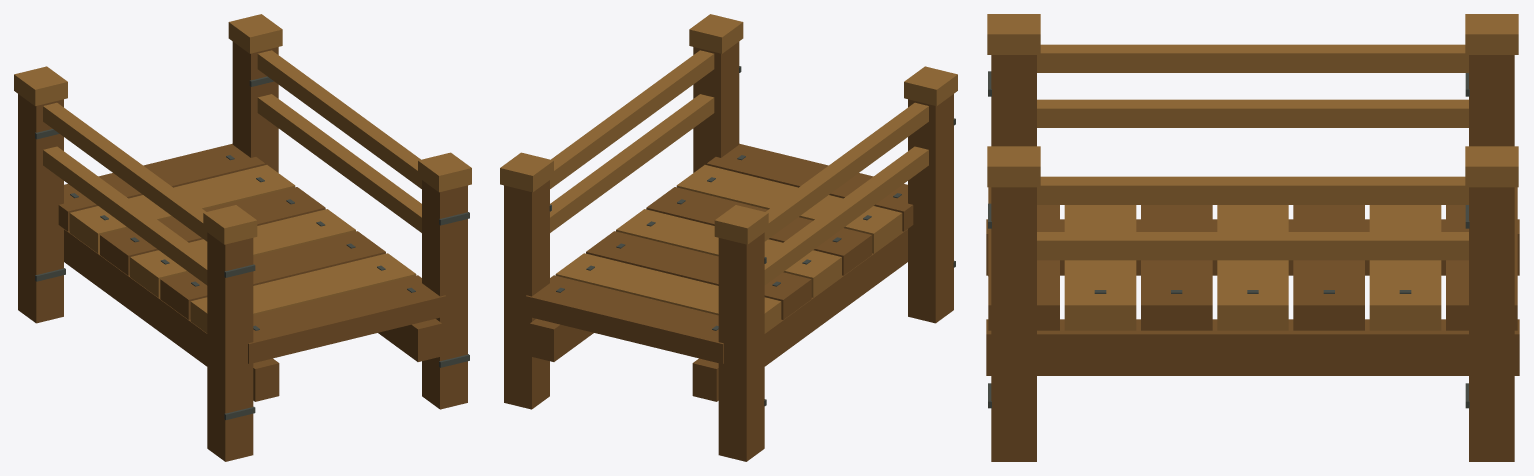
File: SM_DC_Bridge_Coarse.fbx
3 renders of one model, left to right at view 1: azimuth 30°, elevation 25°; view 2: azimuth 150°, elevation 25°; view 3: azimuth 270°, elevation 25°, orthographic. The views are drawn at different scales.
Visible parts, largest first — view 1: SM_DC_Bridge_Coarse; view 2: SM_DC_Bridge_Coarse; view 3: SM_DC_Bridge_Coarse.
Part boxes in pixels (x1,y1,x2,y2): SM_DC_Bridge_Coarse: (14,14,471,461); SM_DC_Bridge_Coarse: (500,14,957,461); SM_DC_Bridge_Coarse: (986,14,1519,461).
Bounding box in the file's own units: 1.42 × 2.1 × 1.29.
